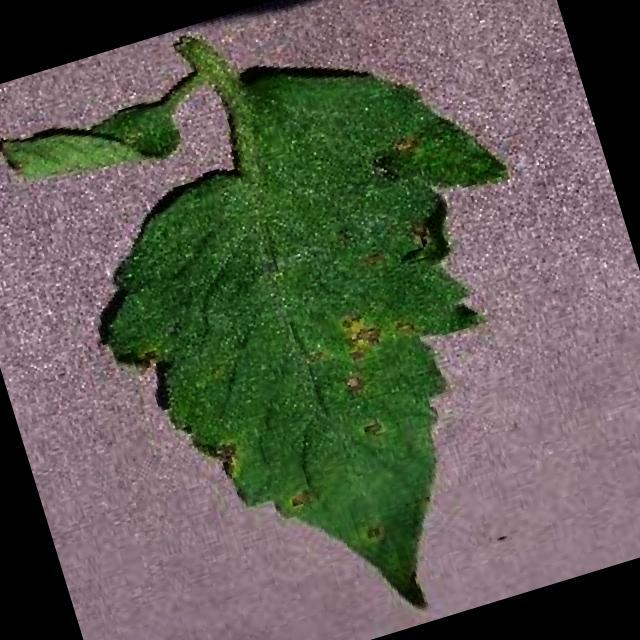Tomato Septoria spot leaf: (47, 18, 629, 640)
